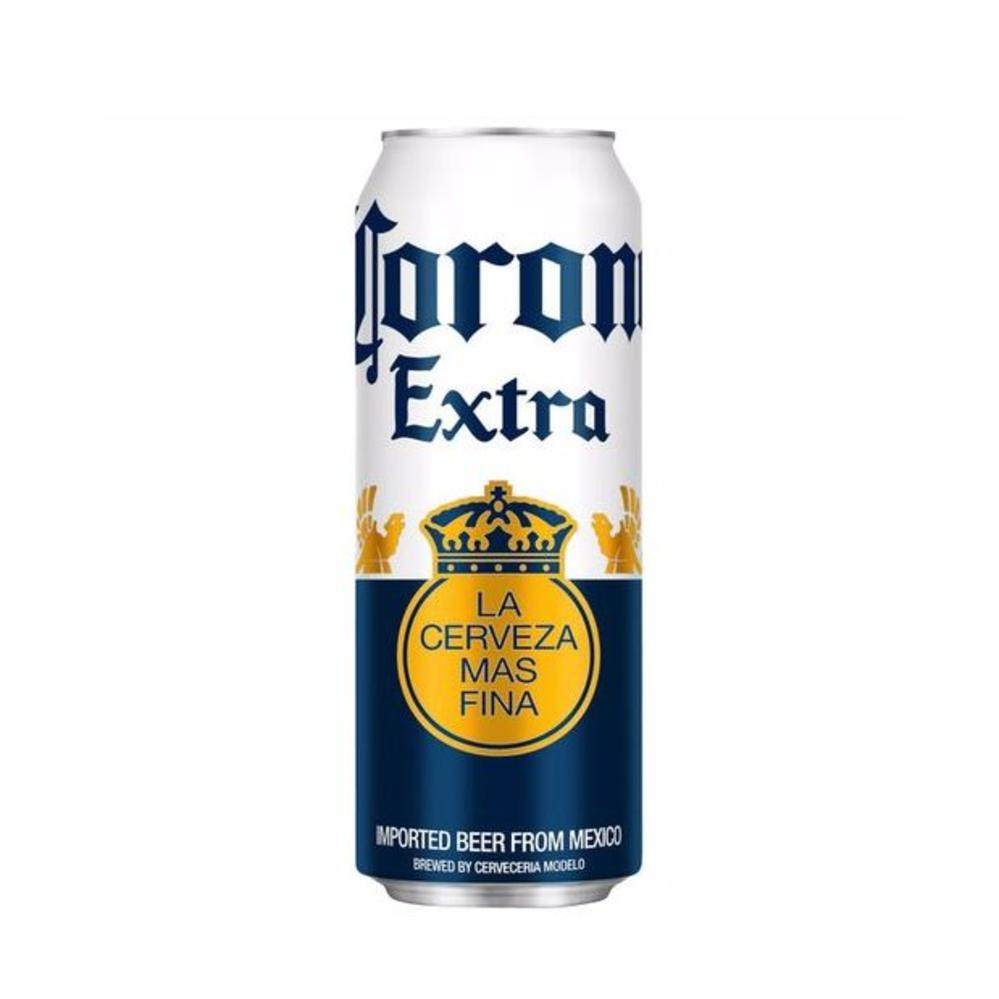beer can: (351, 124, 664, 917)
